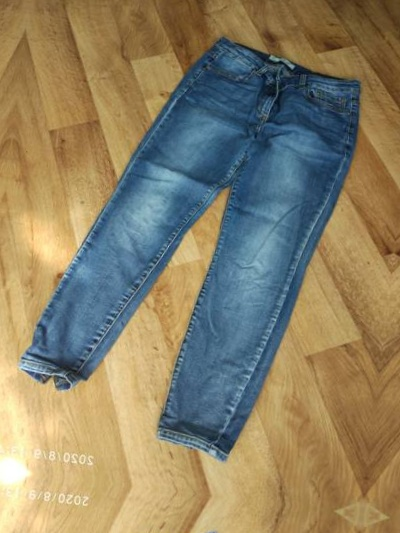Pants: (11, 0, 389, 456), (0, 527, 323, 533)
